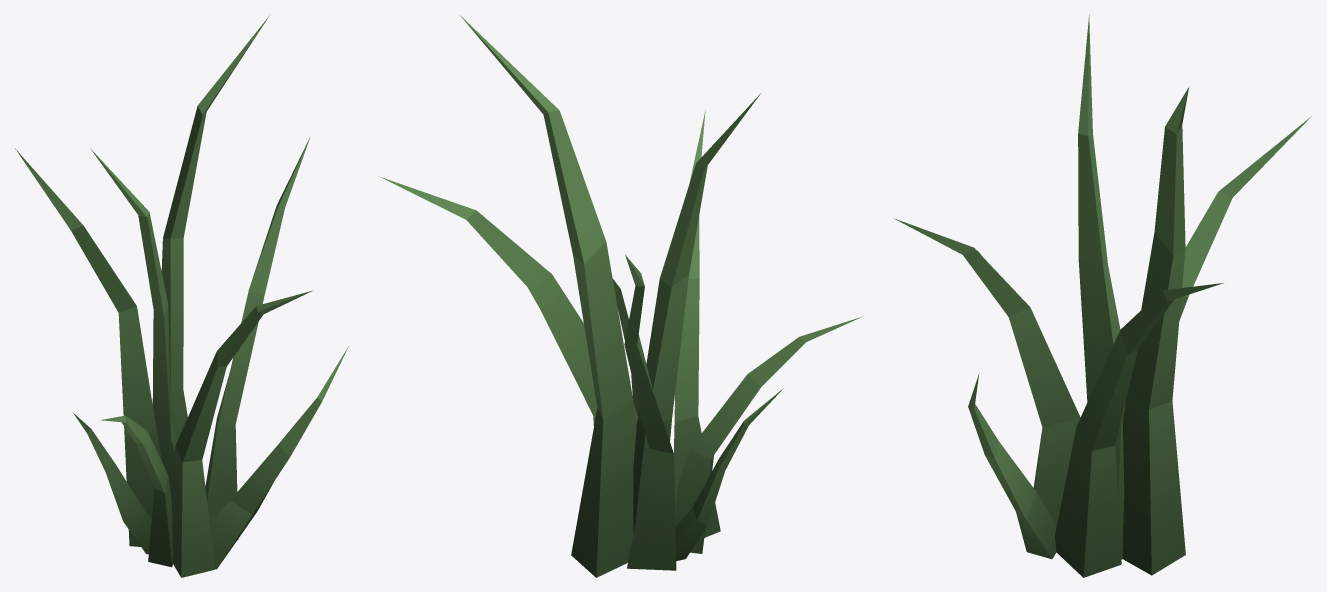
The model's file is Grass-03.FBX.
3 views of the same model, side by side, from view 1: azimuth 30°, elevation 25°; view 2: azimuth 150°, elevation 25°; view 3: azimuth 270°, elevation 25° (orthographic). The views are drawn at different scales.
Visible parts, largest first — view 1: Grass-03; view 2: Grass-03; view 3: Grass-03.
Part boxes in pixels (x1,y1,x2,y2): Grass-03: (15,15,348,577); Grass-03: (378,15,862,577); Grass-03: (893,14,1311,577).
Bounding box in the file's own units: 70.87 × 99.53 × 70.9.
1 material, 1 textured.
